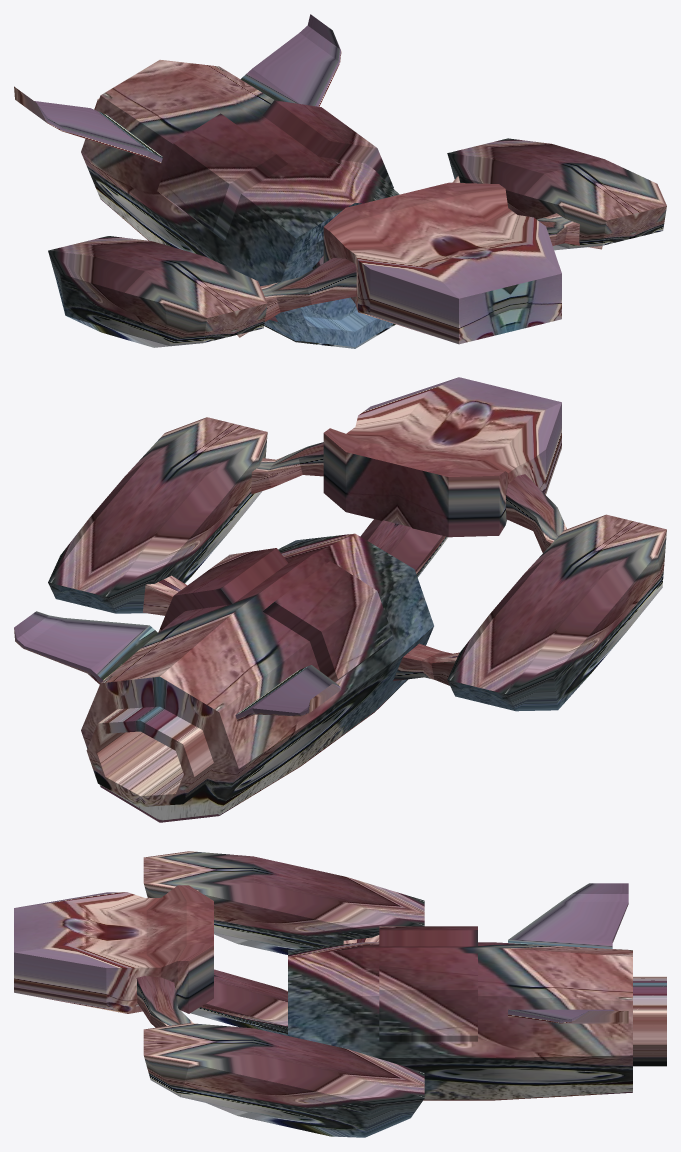
The model's file is frigate.glb.
3 renders of one model, top to bottom at view 1: azimuth 30°, elevation 25°; view 2: azimuth 150°, elevation 25°; view 3: azimuth 270°, elevation 25°, orthographic. The views are drawn at different scales.
Parts seen in each view (by area): view 1: frigate; view 2: frigate; view 3: frigate.
Boxes of the visible parts, x1,y1,x2,y2 form: frigate: [14, 14, 666, 348]; frigate: [14, 377, 666, 822]; frigate: [14, 851, 666, 1137].
Bounding box in the file's own units: 30.22 × 11.33 × 39.
Materials: 1 (1 with a texture image).
